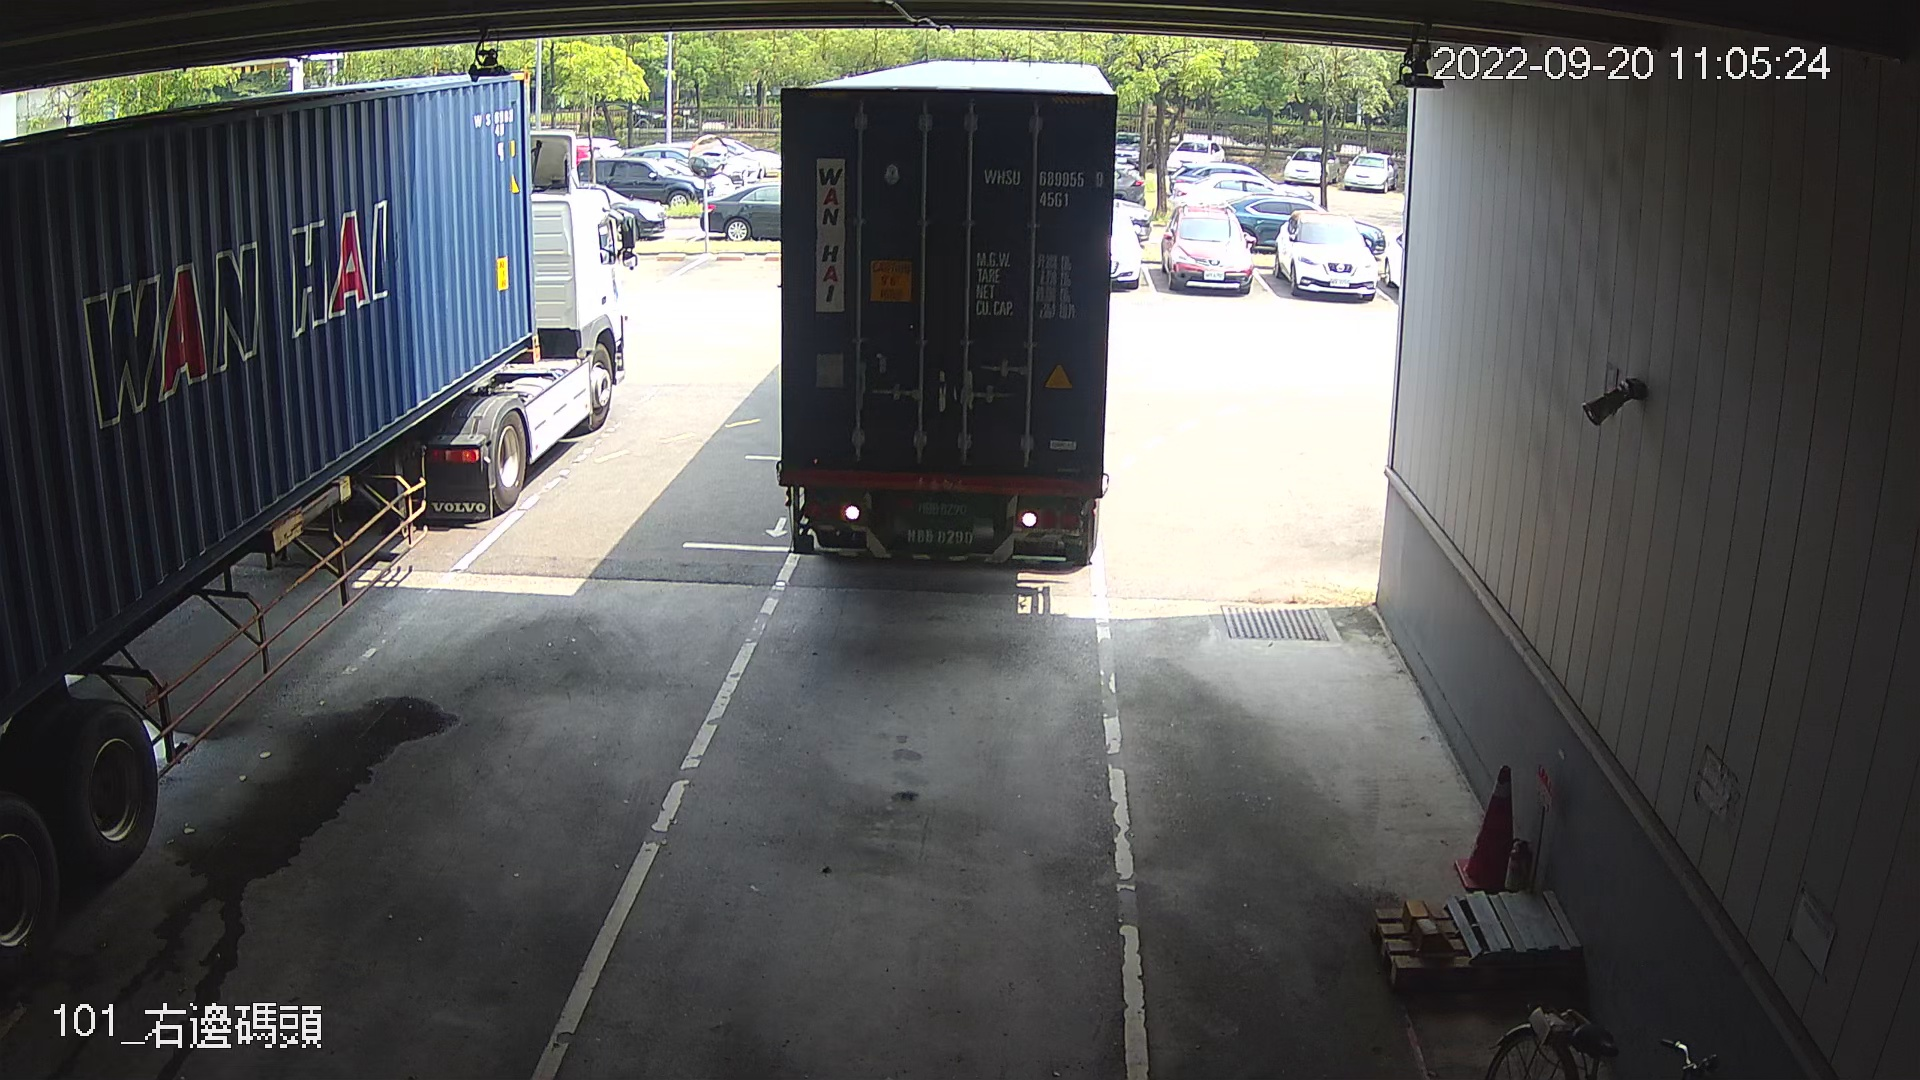container: (975, 158, 1106, 212)
